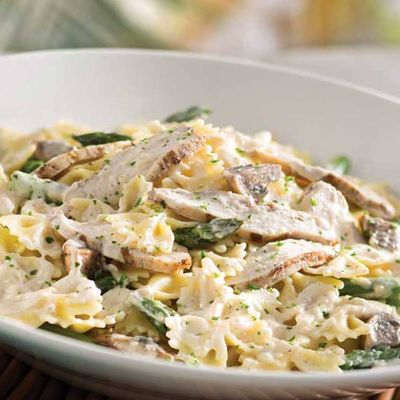curry: (338, 344, 399, 371)
